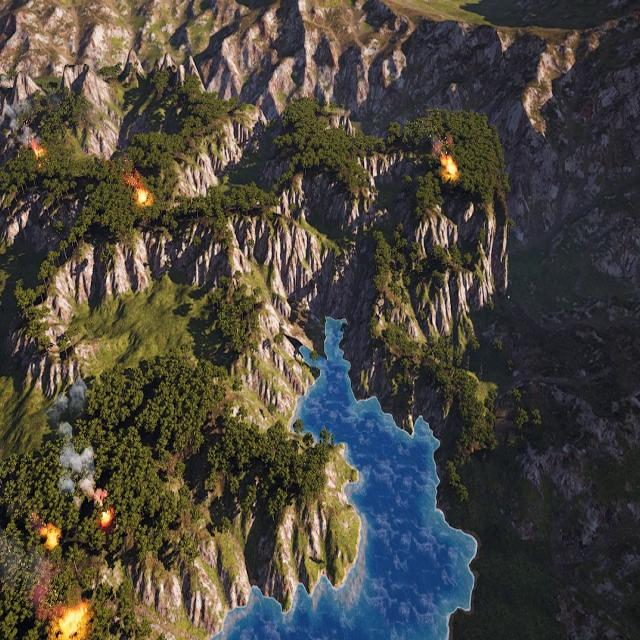fire: (61, 603, 88, 640), (42, 527, 61, 552), (443, 156, 458, 178), (31, 141, 44, 164), (99, 505, 112, 526), (137, 186, 149, 204)
smoke: (49, 377, 104, 506), (2, 101, 37, 149)
